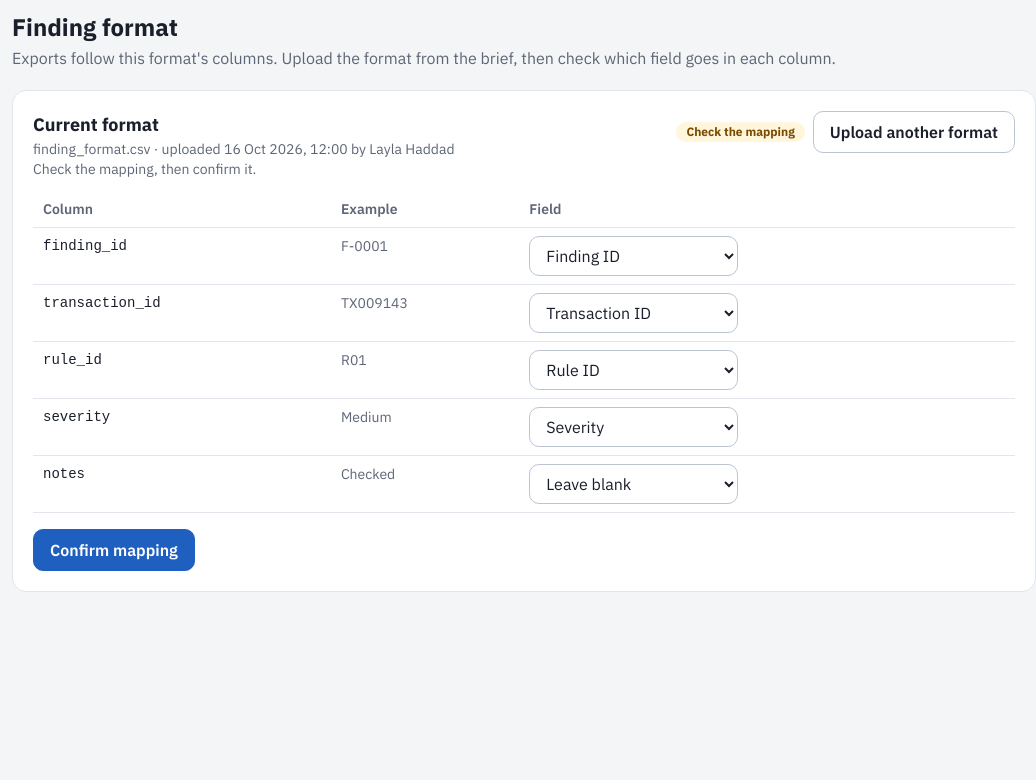
Test: FindingFormatPage › says what to fix in a mapping that can't be scored
The width and height of the screenshot is (1036, 780).
Select "Leave blank" in the dropdown named "Field for rule_id". click: [634, 370]
box: top-left (529, 350), bottom-right (738, 390)
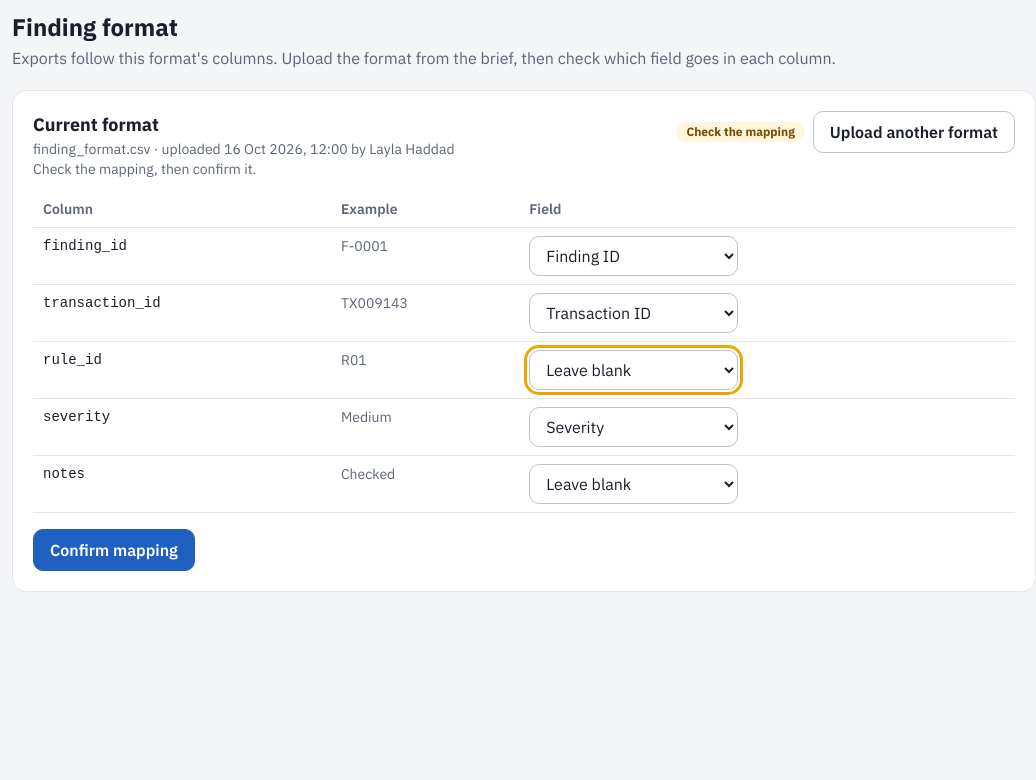
Click the button "Confirm mapping". click: [114, 550]
box: top-left (33, 529), bottom-right (195, 571)
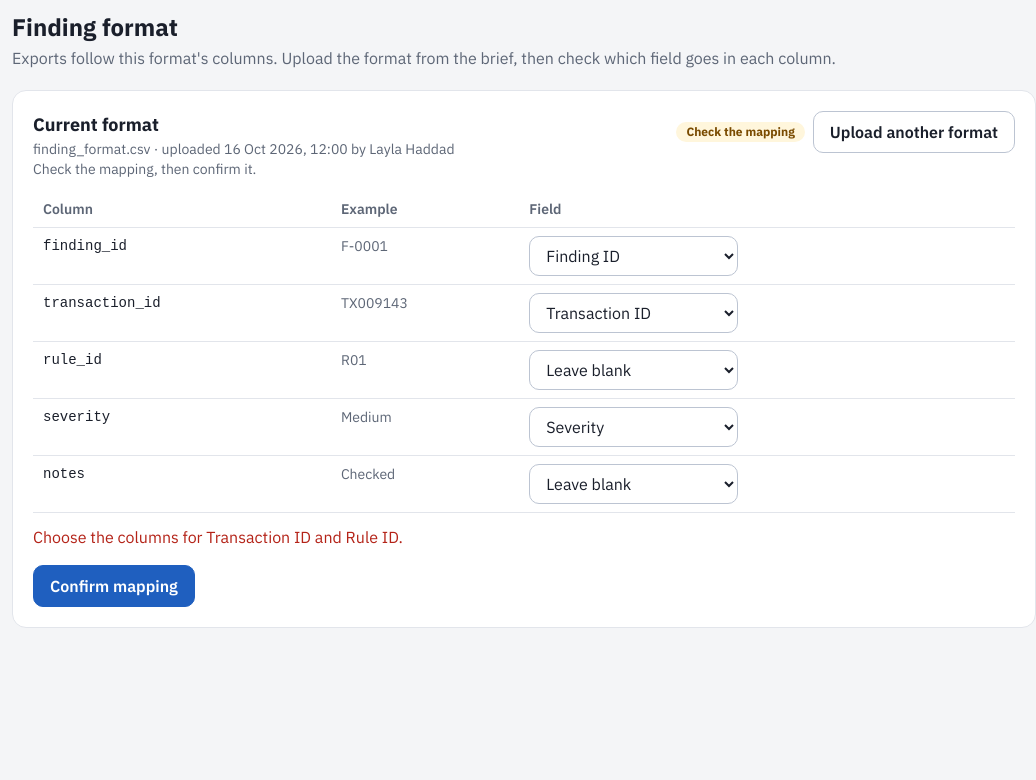
Expected: the text "Choose the columns for Transaction ID and Rule ID." is shown, top-left (33, 527), bottom-right (403, 547)
